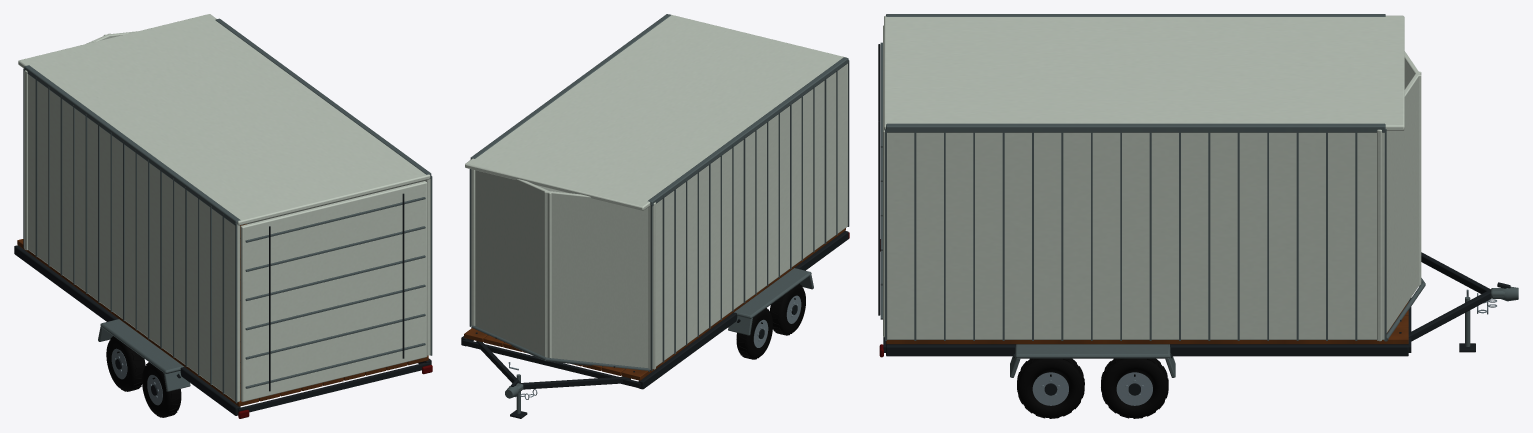
Rendered from LandscapeTrailer.gltf.
3 views of the same model, side by side, from view 1: azimuth 30°, elevation 25°; view 2: azimuth 150°, elevation 25°; view 3: azimuth 270°, elevation 25° (orthographic). The views are drawn at different scales.
Visible parts, largest first — view 1: LandscapeTrailer__Body, LandscapeTrailer__RampDoor, LandscapeTrailer; view 2: LandscapeTrailer__Body, LandscapeTrailer; view 3: LandscapeTrailer__Body, LandscapeTrailer, LandscapeTrailer__RampDoor.
Part boxes in pixels (bbox=[...]): LandscapeTrailer__Body: bbox=[14, 14, 432, 418]; LandscapeTrailer__RampDoor: bbox=[240, 181, 427, 401]; LandscapeTrailer: bbox=[106, 336, 181, 417]; LandscapeTrailer__Body: bbox=[461, 14, 849, 418]; LandscapeTrailer: bbox=[736, 283, 805, 359]; LandscapeTrailer__Body: bbox=[879, 14, 1518, 377]; LandscapeTrailer: bbox=[1017, 358, 1168, 418]; LandscapeTrailer__RampDoor: bbox=[878, 25, 884, 337].
Bounding box in the file's own units: 2.04 × 2.1 × 4.24.
Materials: 1 (1 with a texture image).
